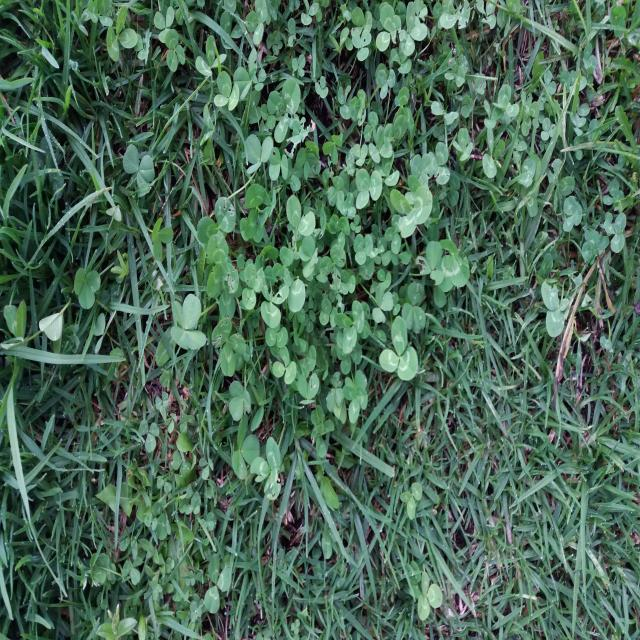Four Leaf Clover: (171, 293, 206, 350)
